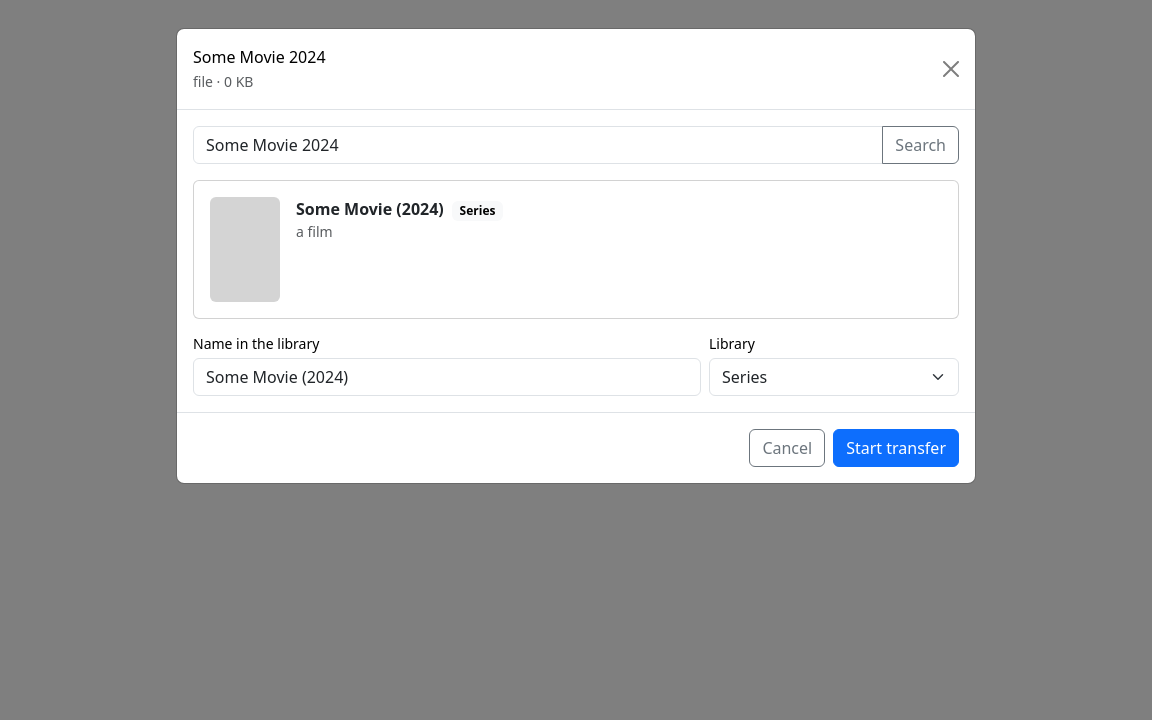
it: offers to add episodes to a show that is already there
This screenshot has width=1152, height=720.
Expected: the text "Some Movie (2024)" is shown, [296,198,444,220]
Click the button "Start transfer": coordinates (896, 448) [833,429,959,467]
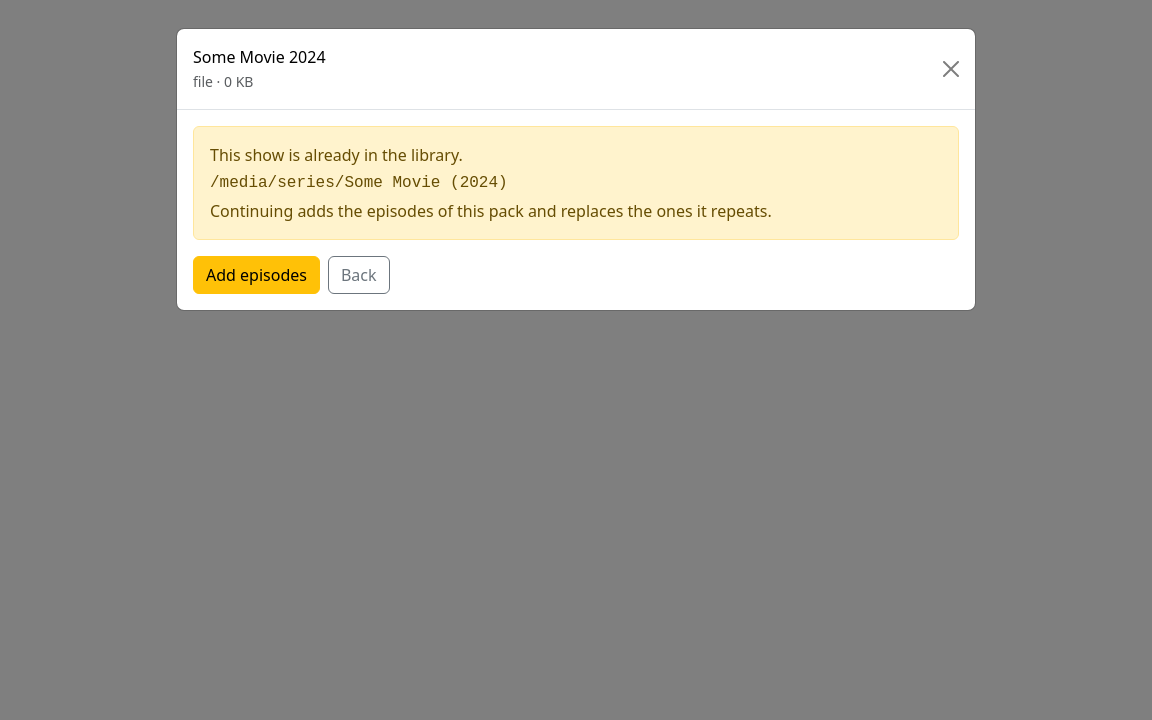
Now the message shows "show is already in the library", box [210,144,463,166]
Now the button "Add episodes" is shown, box [193,256,320,294]
